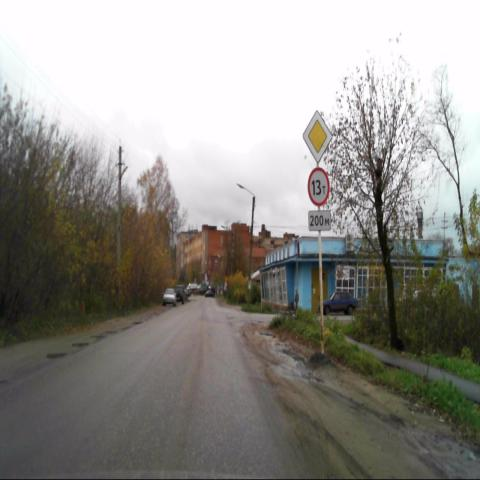3_11: (307, 166, 330, 206)
